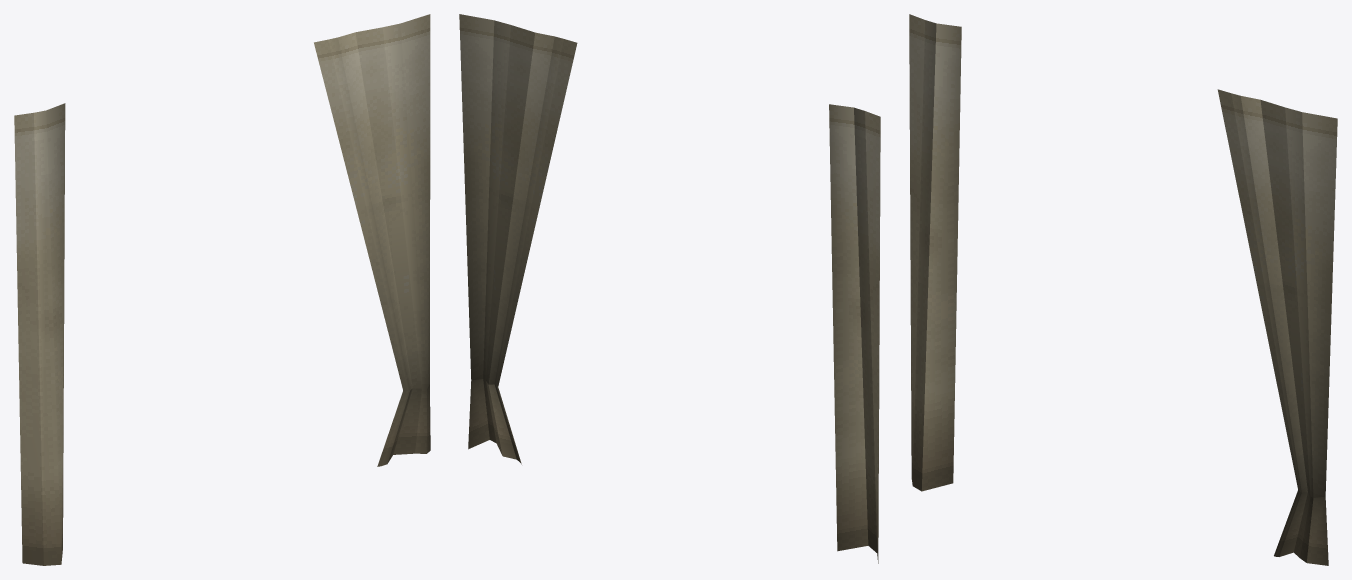
The model's file is prop_curtain-open-3.glb.
3 renders of one model, left to right at view 1: azimuth 30°, elevation 25°; view 2: azimuth 150°, elevation 25°; view 3: azimuth 330°, elevation 25°, orthographic. The views are drawn at different scales.
Parts seen in each view (by area): view 1: prop_curtain-open-3; view 2: prop_curtain-open-3; view 3: prop_curtain-open-3.
Part boxes in pixels (<box>): prop_curtain-open-3: <box>14,14,430,565</box>; prop_curtain-open-3: <box>459,14,880,563</box>; prop_curtain-open-3: <box>909,14,1337,565</box>.
Size of the model in its own units: 1.71 by 1.76 by 0.1248.
Materials: 1 (1 with a texture image).
